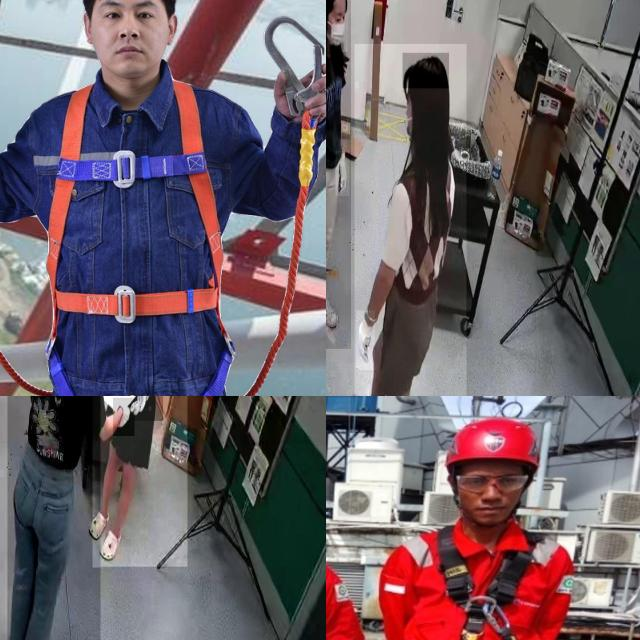Harness: (39, 77, 233, 396), (386, 522, 554, 640)
face_mask: (326, 13, 347, 52)
hand_glove: (356, 311, 376, 371), (113, 398, 135, 437), (134, 396, 163, 421), (336, 150, 350, 197)
head_nohelmet: (402, 53, 450, 89)
person: (354, 43, 467, 396), (7, 396, 100, 640), (92, 396, 187, 567), (326, 0, 351, 349)
shoes: (326, 288, 340, 332), (7, 623, 36, 640)
